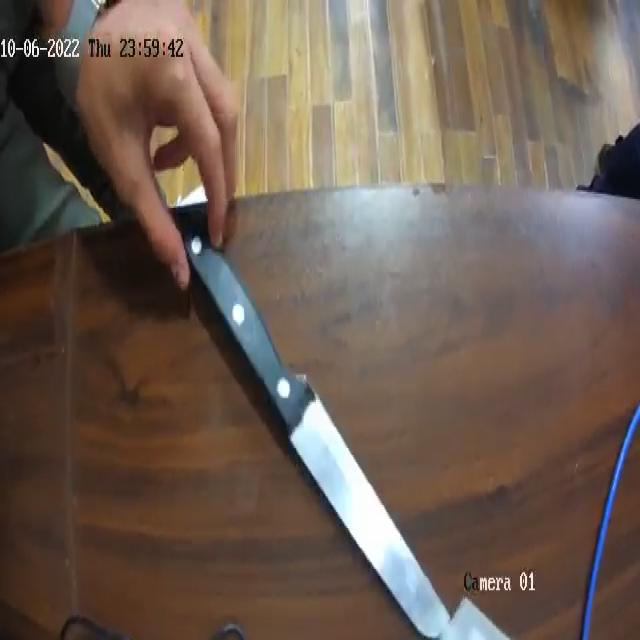Knife: (178, 236, 449, 636)
